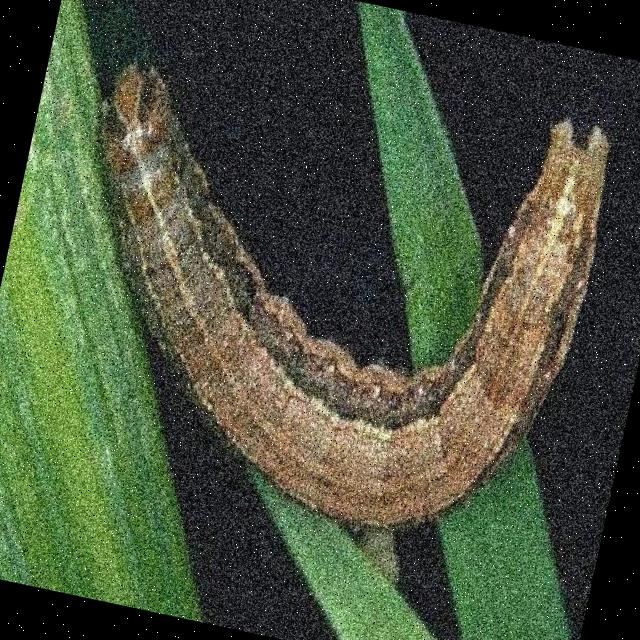worm: (27, 20, 624, 566)
